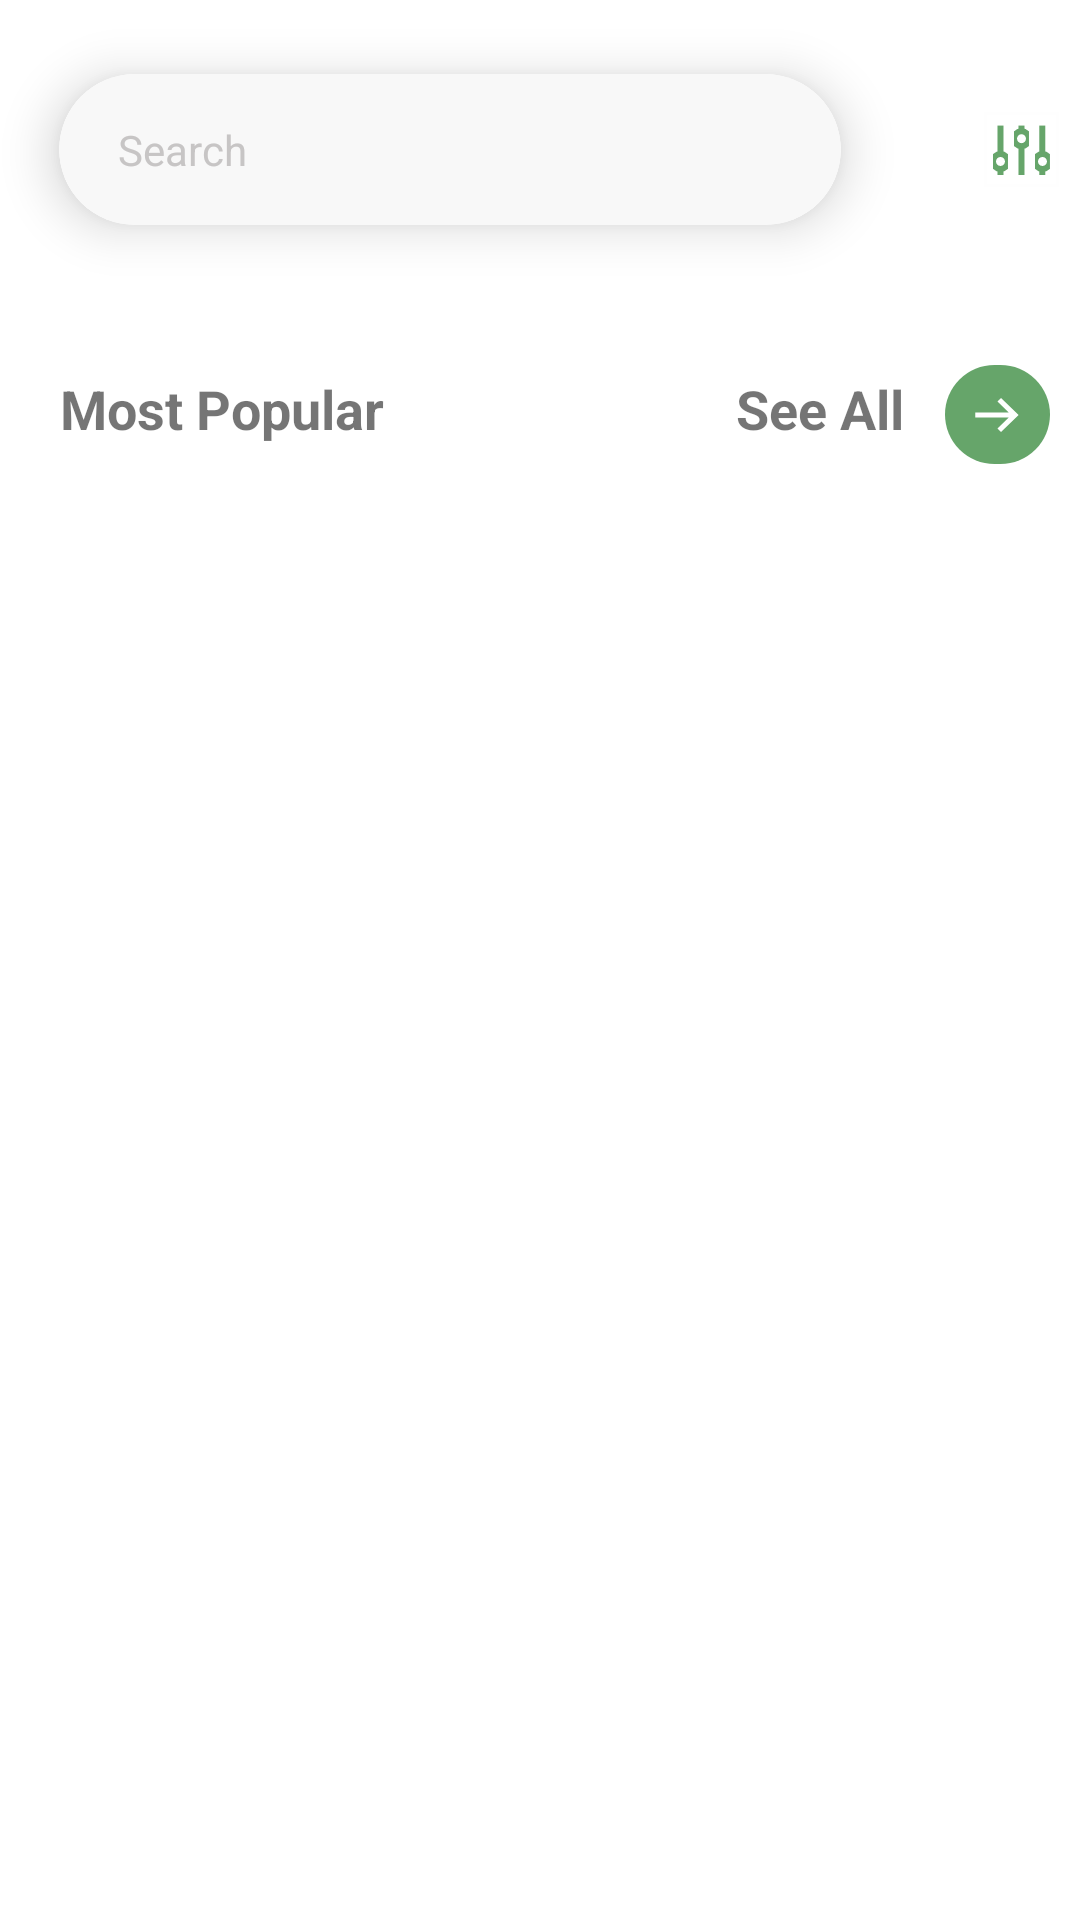

Where to tap for icons on this 1080w x 1920h app screen, as [x,y]:
Filter: [1021,150]
